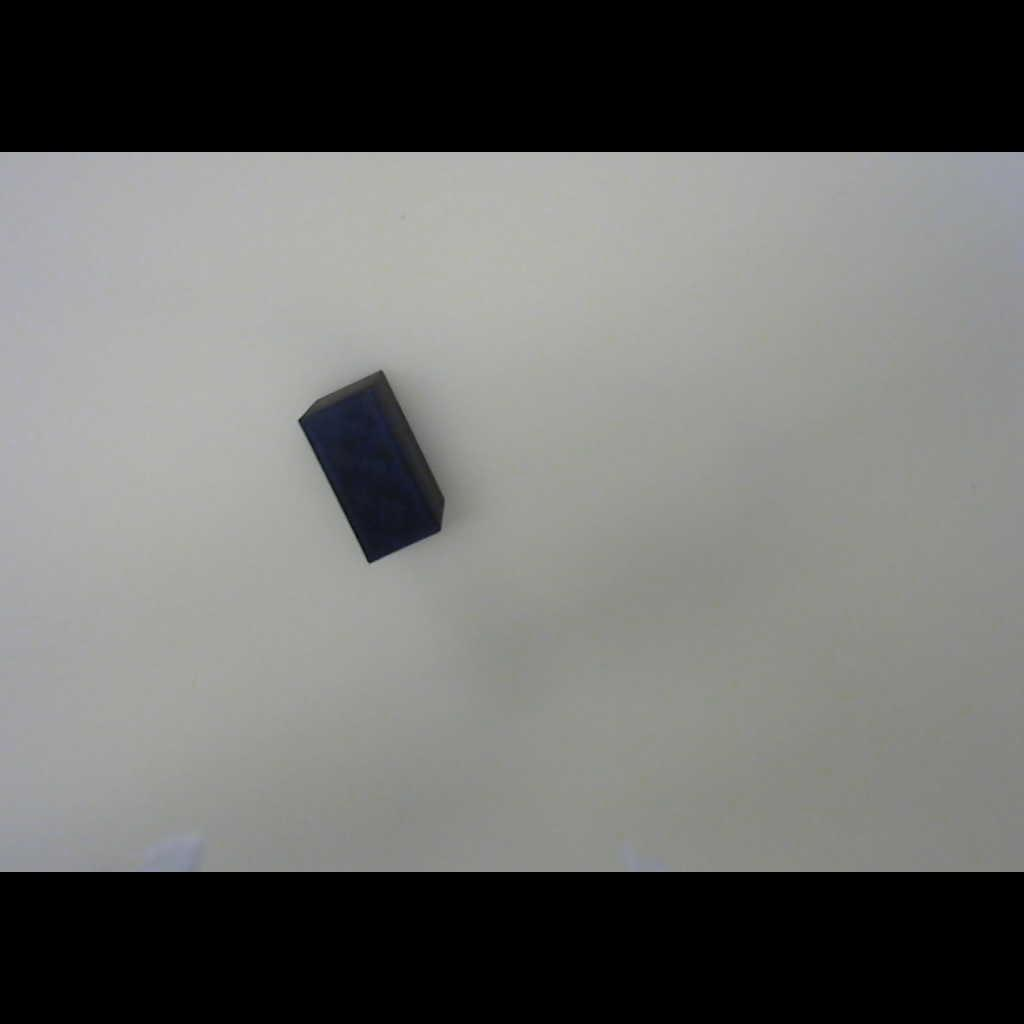rectangle: (297, 382, 446, 564)
